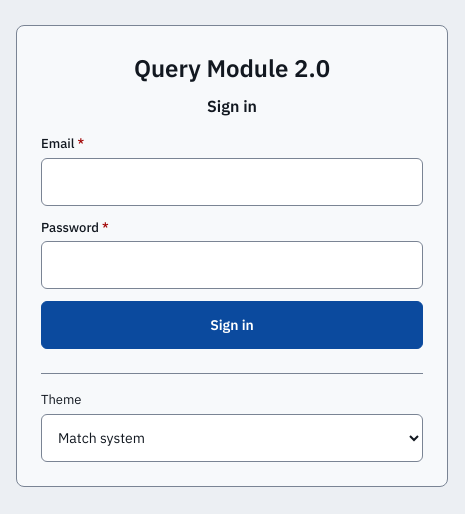
BR-002 standalone sign-in screen (spec 5.6, 6.2) › recovers from a rejected sign-in so the form isn't stuck submitting
Type "tester@querymodule.test" into the field labelled "Email *" at (232, 182), box x1=41 y1=158 x2=423 y2=206
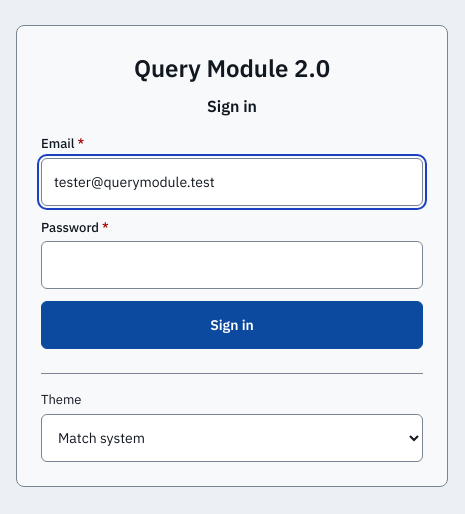
Type "fixture-only-pass" into the password field labelled "Password *" at (232, 265), box x1=41 y1=241 x2=423 y2=289
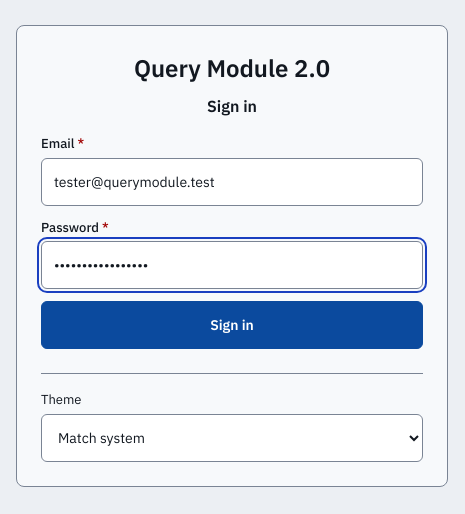
Click the button "Sign in" at (232, 325), box x1=41 y1=301 x2=423 y2=349
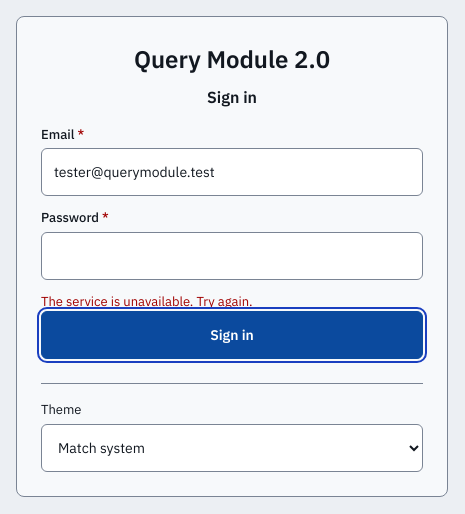
Expected: the text "The service is unavailable. Try again." is shown, x1=41 y1=292 x2=253 y2=310
Expected: the password field labelled "Password *" is empty, x1=41 y1=232 x2=423 y2=280
